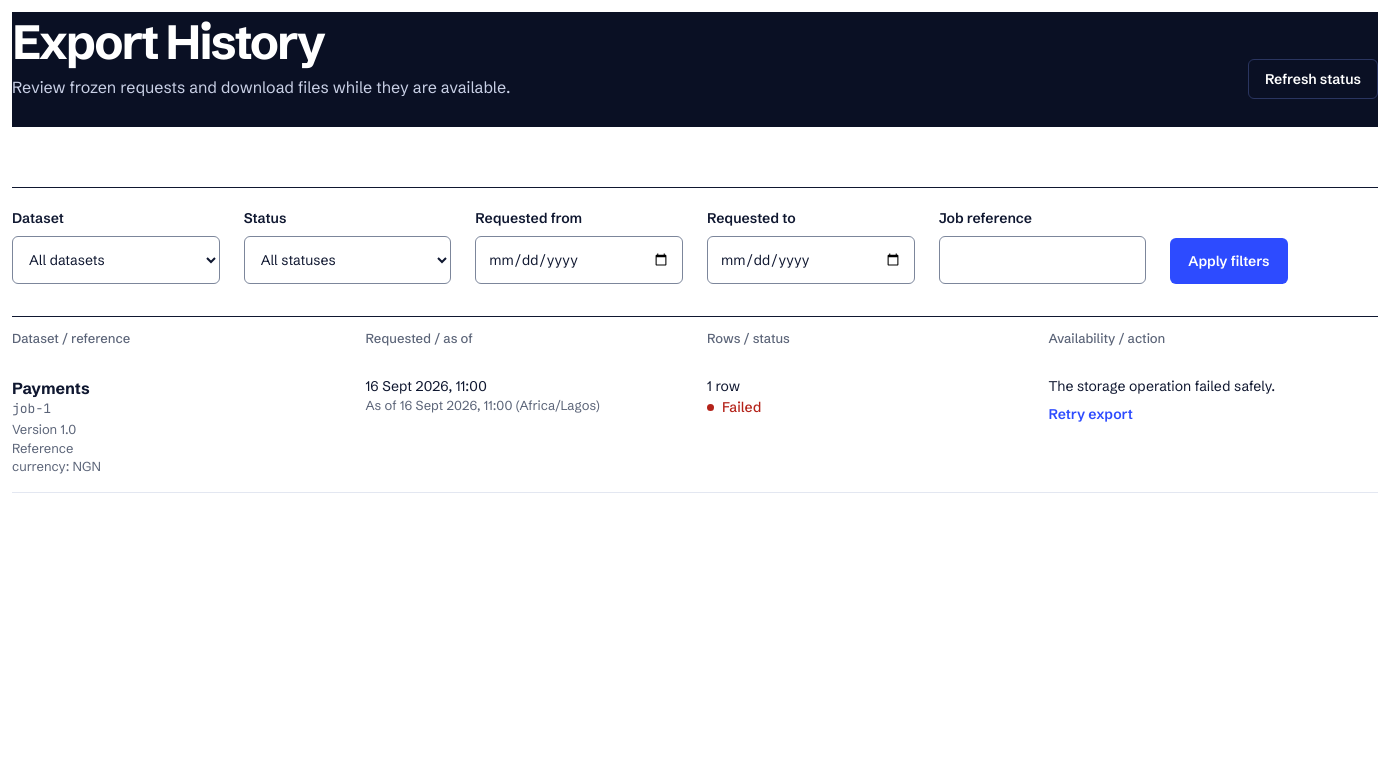
Test: Export History › retries a failed job without hiding the old row on action failure
Click the button "Retry export" at (1091, 414), box [1048, 404, 1133, 424]
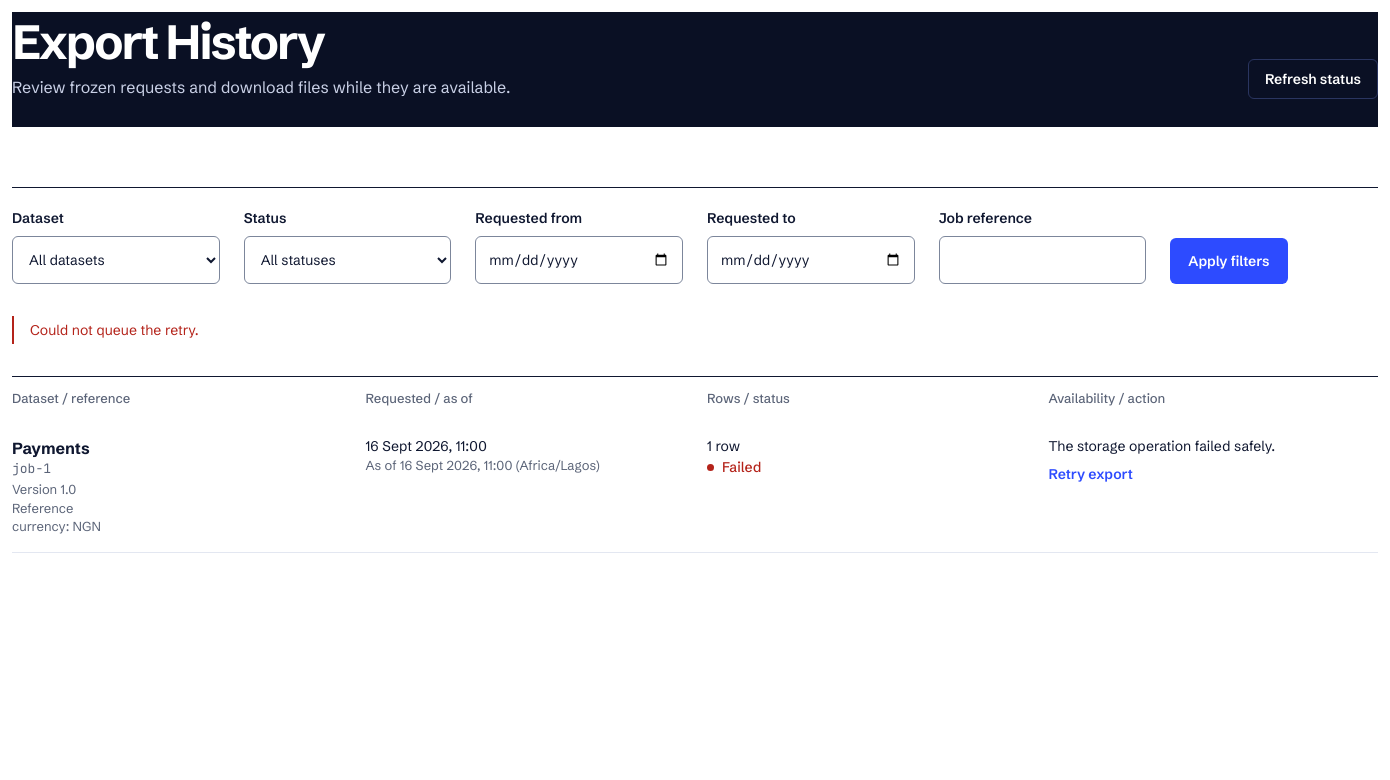
Now the message reads "Could not queue the retry.", box [30, 321, 199, 339]
